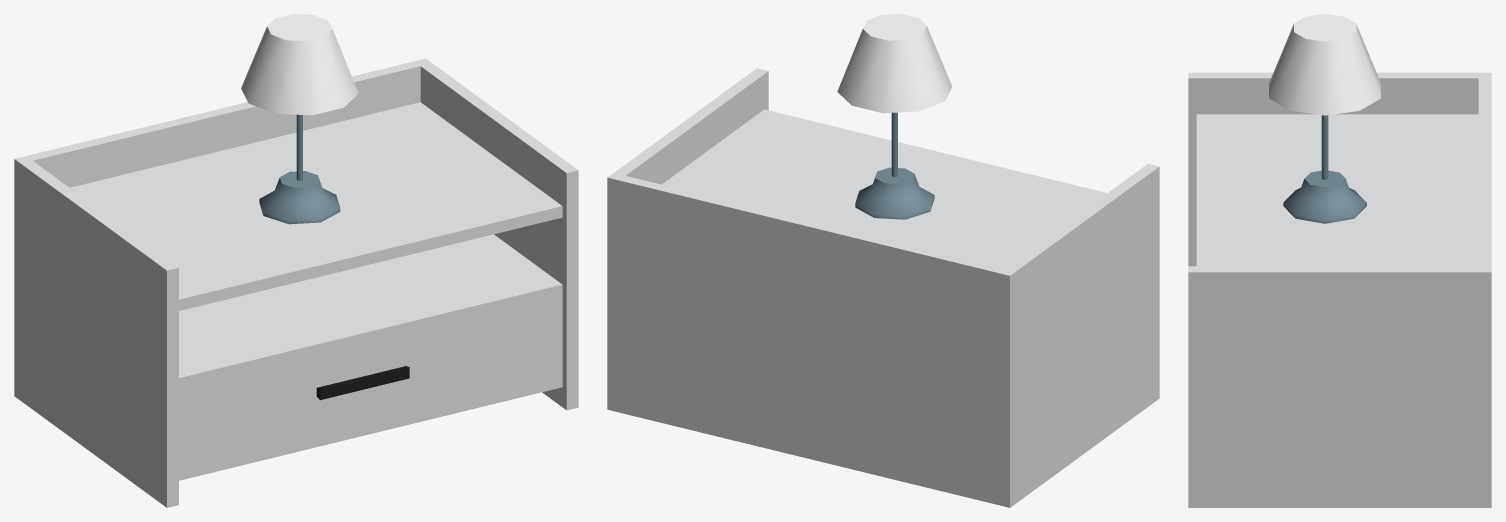
File: M_chuangtouzhuo01.FBX
3 renders of one model, left to right at view 1: azimuth 30°, elevation 25°; view 2: azimuth 150°, elevation 25°; view 3: azimuth 270°, elevation 25°, orthographic. The views are drawn at different scales.
Parts seen in each view (by area): view 1: M_chuangtouzhuo01_01, M_chuangtouzhuo01_03, M_chuangtouzhuo01_02; view 2: M_chuangtouzhuo01_01, M_chuangtouzhuo01_03, M_chuangtouzhuo01_02; view 3: M_chuangtouzhuo01_01, M_chuangtouzhuo01_03, M_chuangtouzhuo01_02.
Part boxes in pixels (<box>): M_chuangtouzhuo01_01: <box>14,58,578,507</box>; M_chuangtouzhuo01_03: <box>241,14,358,115</box>; M_chuangtouzhuo01_02: <box>259,114,340,224</box>; M_chuangtouzhuo01_01: <box>607,68,1159,507</box>; M_chuangtouzhuo01_03: <box>837,14,952,113</box>; M_chuangtouzhuo01_02: <box>855,112,934,219</box>; M_chuangtouzhuo01_01: <box>1188,72,1491,507</box>; M_chuangtouzhuo01_03: <box>1269,14,1380,115</box>; M_chuangtouzhuo01_02: <box>1283,115,1366,223</box>.
Bounding box in the file's own units: 1.22 × 1.08 × 0.7868.
